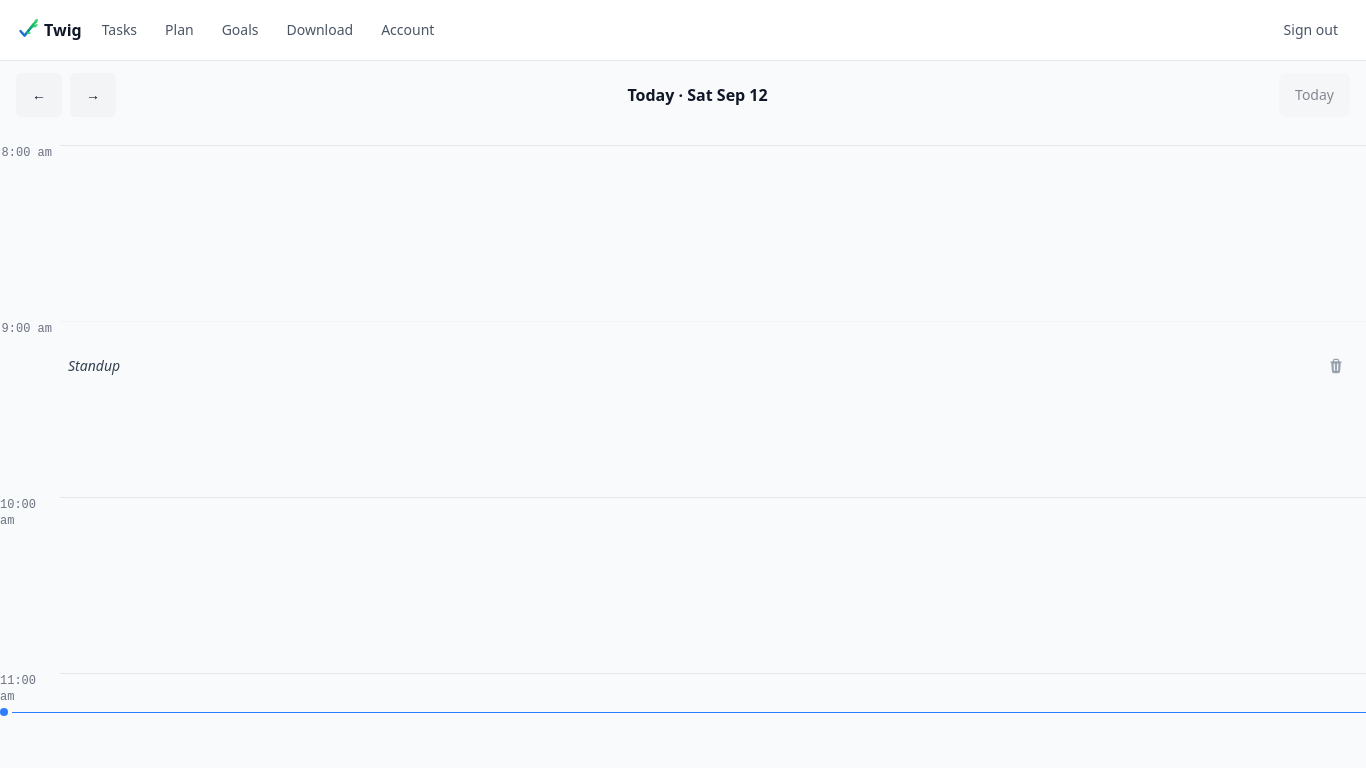
Test: PlanPage — remove entry from planner › shows inline error on failed remove and leaves entry visible
Click the button with test id "remove-btn" at (1336, 366), box [1314,344,1358,388]
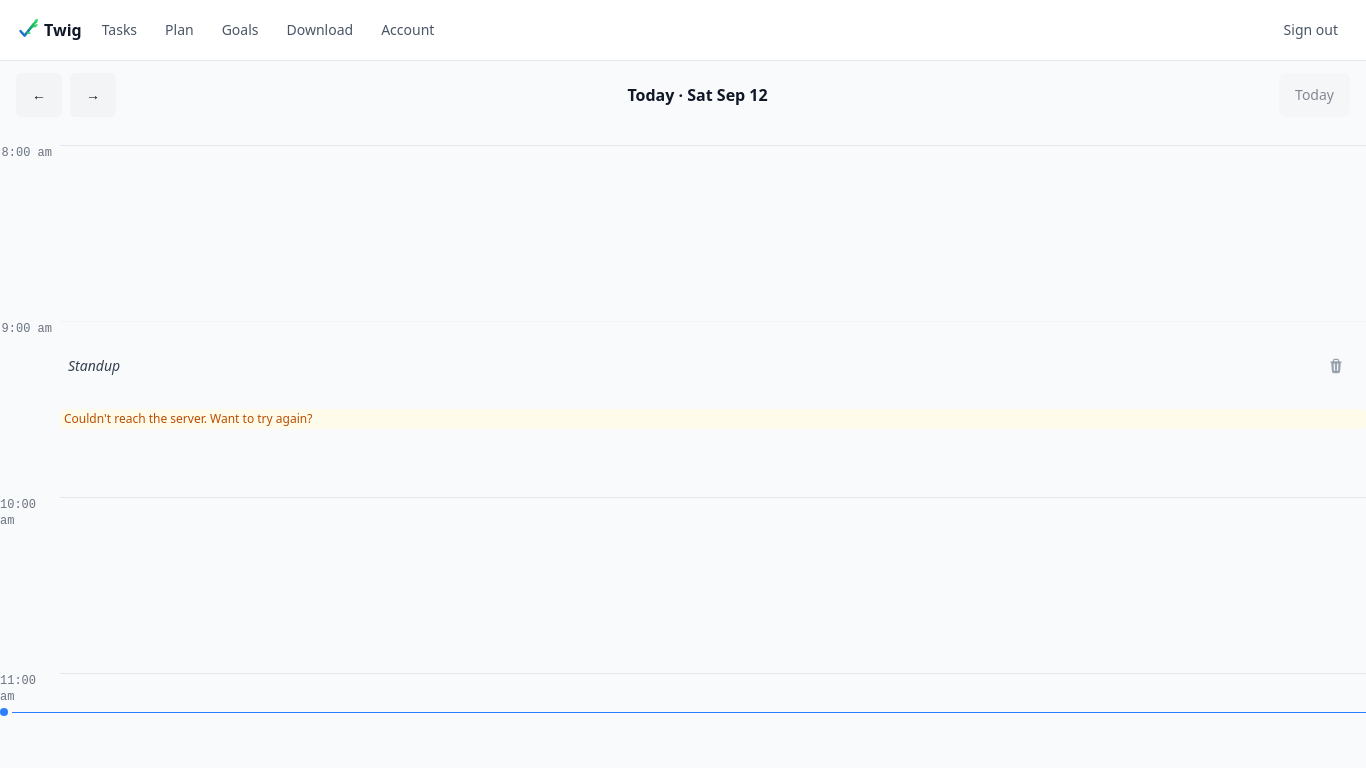
expect the text "Standup" is shown: met, box [68,356,120,374]
expect the text "Couldn't reach the server. Want to try again?" is shown: met, box [60,409,1365,429]
